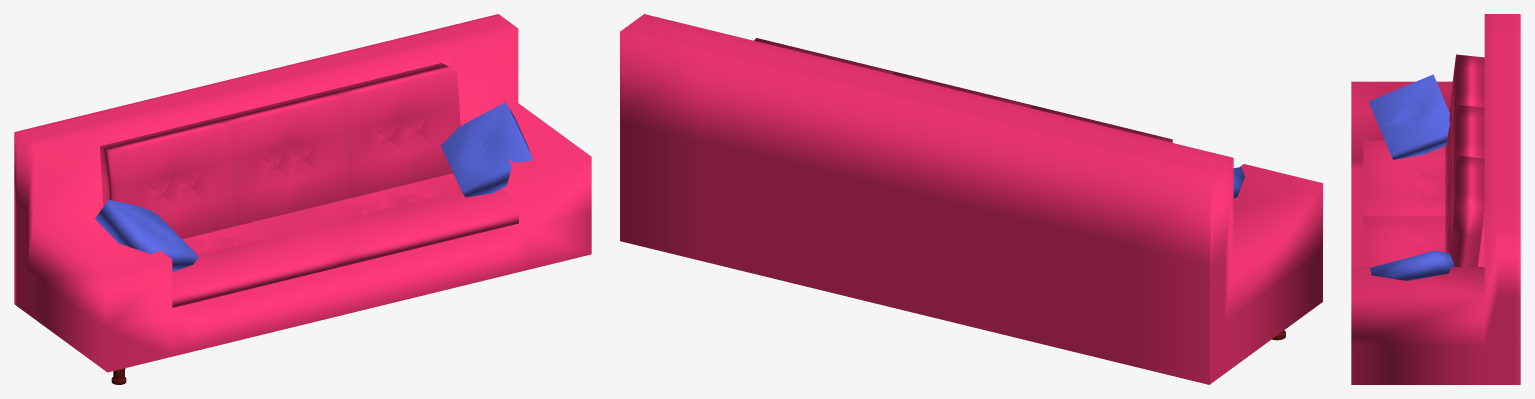
File: sofa.glb
3 views of the same model, side by side, from view 1: azimuth 30°, elevation 25°; view 2: azimuth 150°, elevation 25°; view 3: azimuth 270°, elevation 25° (orthographic). The views are drawn at different scales.
Visible parts, largest first — view 1: Cube, Cube.004, Cube.005, Cube.003, Cube.002, Cube.001, Cube.007, Cube.006; view 2: Cube, Cube.003; view 3: Cube, Cube.001, Cube.006, Cube.002, Cube.005, Cube.004, Cube.003, Cube.007.
Boxes of the visible parts, <box> form: Cube: <box>14,14,591,372</box>; Cube.004: <box>214,91,349,225</box>; Cube.005: <box>327,63,460,198</box>; Cube.003: <box>100,118,236,239</box>; Cube.002: <box>292,173,518,267</box>; Cube.001: <box>172,212,344,307</box>; Cube.007: <box>440,102,532,197</box>; Cube.006: <box>95,200,198,271</box>; Cube: <box>620,14,1322,384</box>; Cube.003: <box>1030,105,1172,142</box>; Cube: <box>1351,14,1520,384</box>; Cube.001: <box>1363,140,1484,216</box>; Cube.006: <box>1368,74,1449,159</box>; Cube.002: <box>1363,216,1484,266</box>; Cube.005: <box>1445,155,1484,266</box>; Cube.004: <box>1445,104,1484,240</box>; Cube.003: <box>1445,54,1484,190</box>; Cube.007: <box>1370,250,1454,280</box>.
Size of the model in its own units: 14.42 by 5.61 by 4.81.
